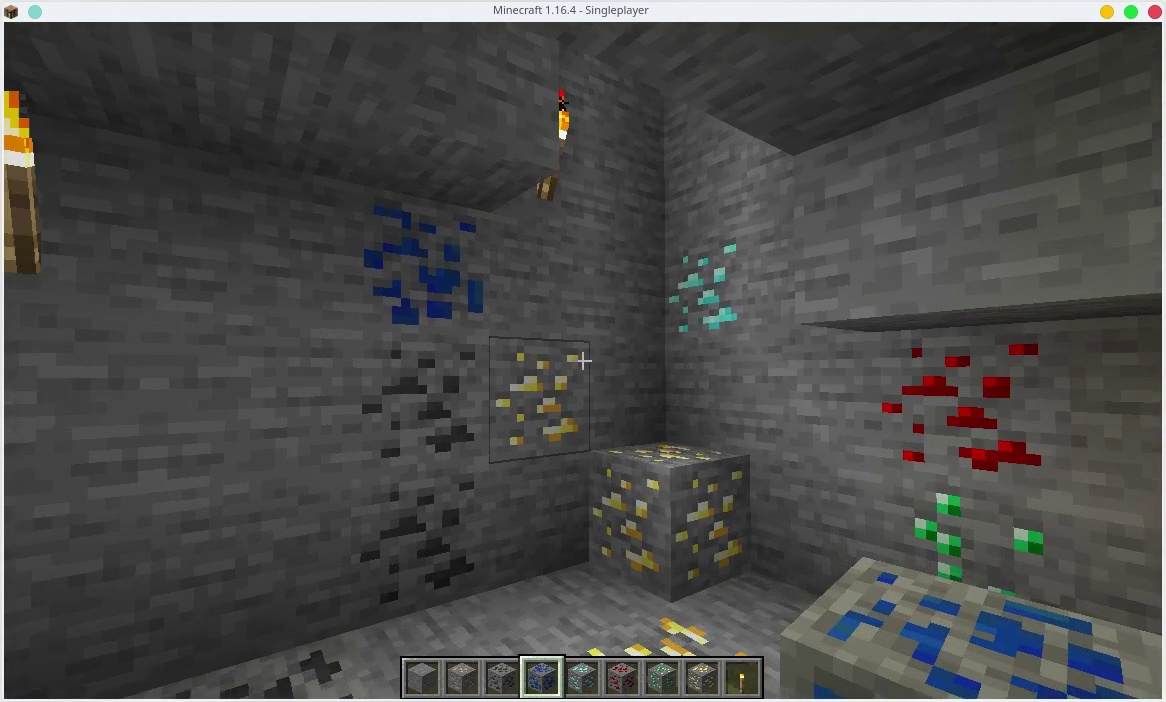gold: (595, 445, 752, 589), (490, 339, 592, 461), (575, 614, 757, 657), (683, 660, 718, 695)
